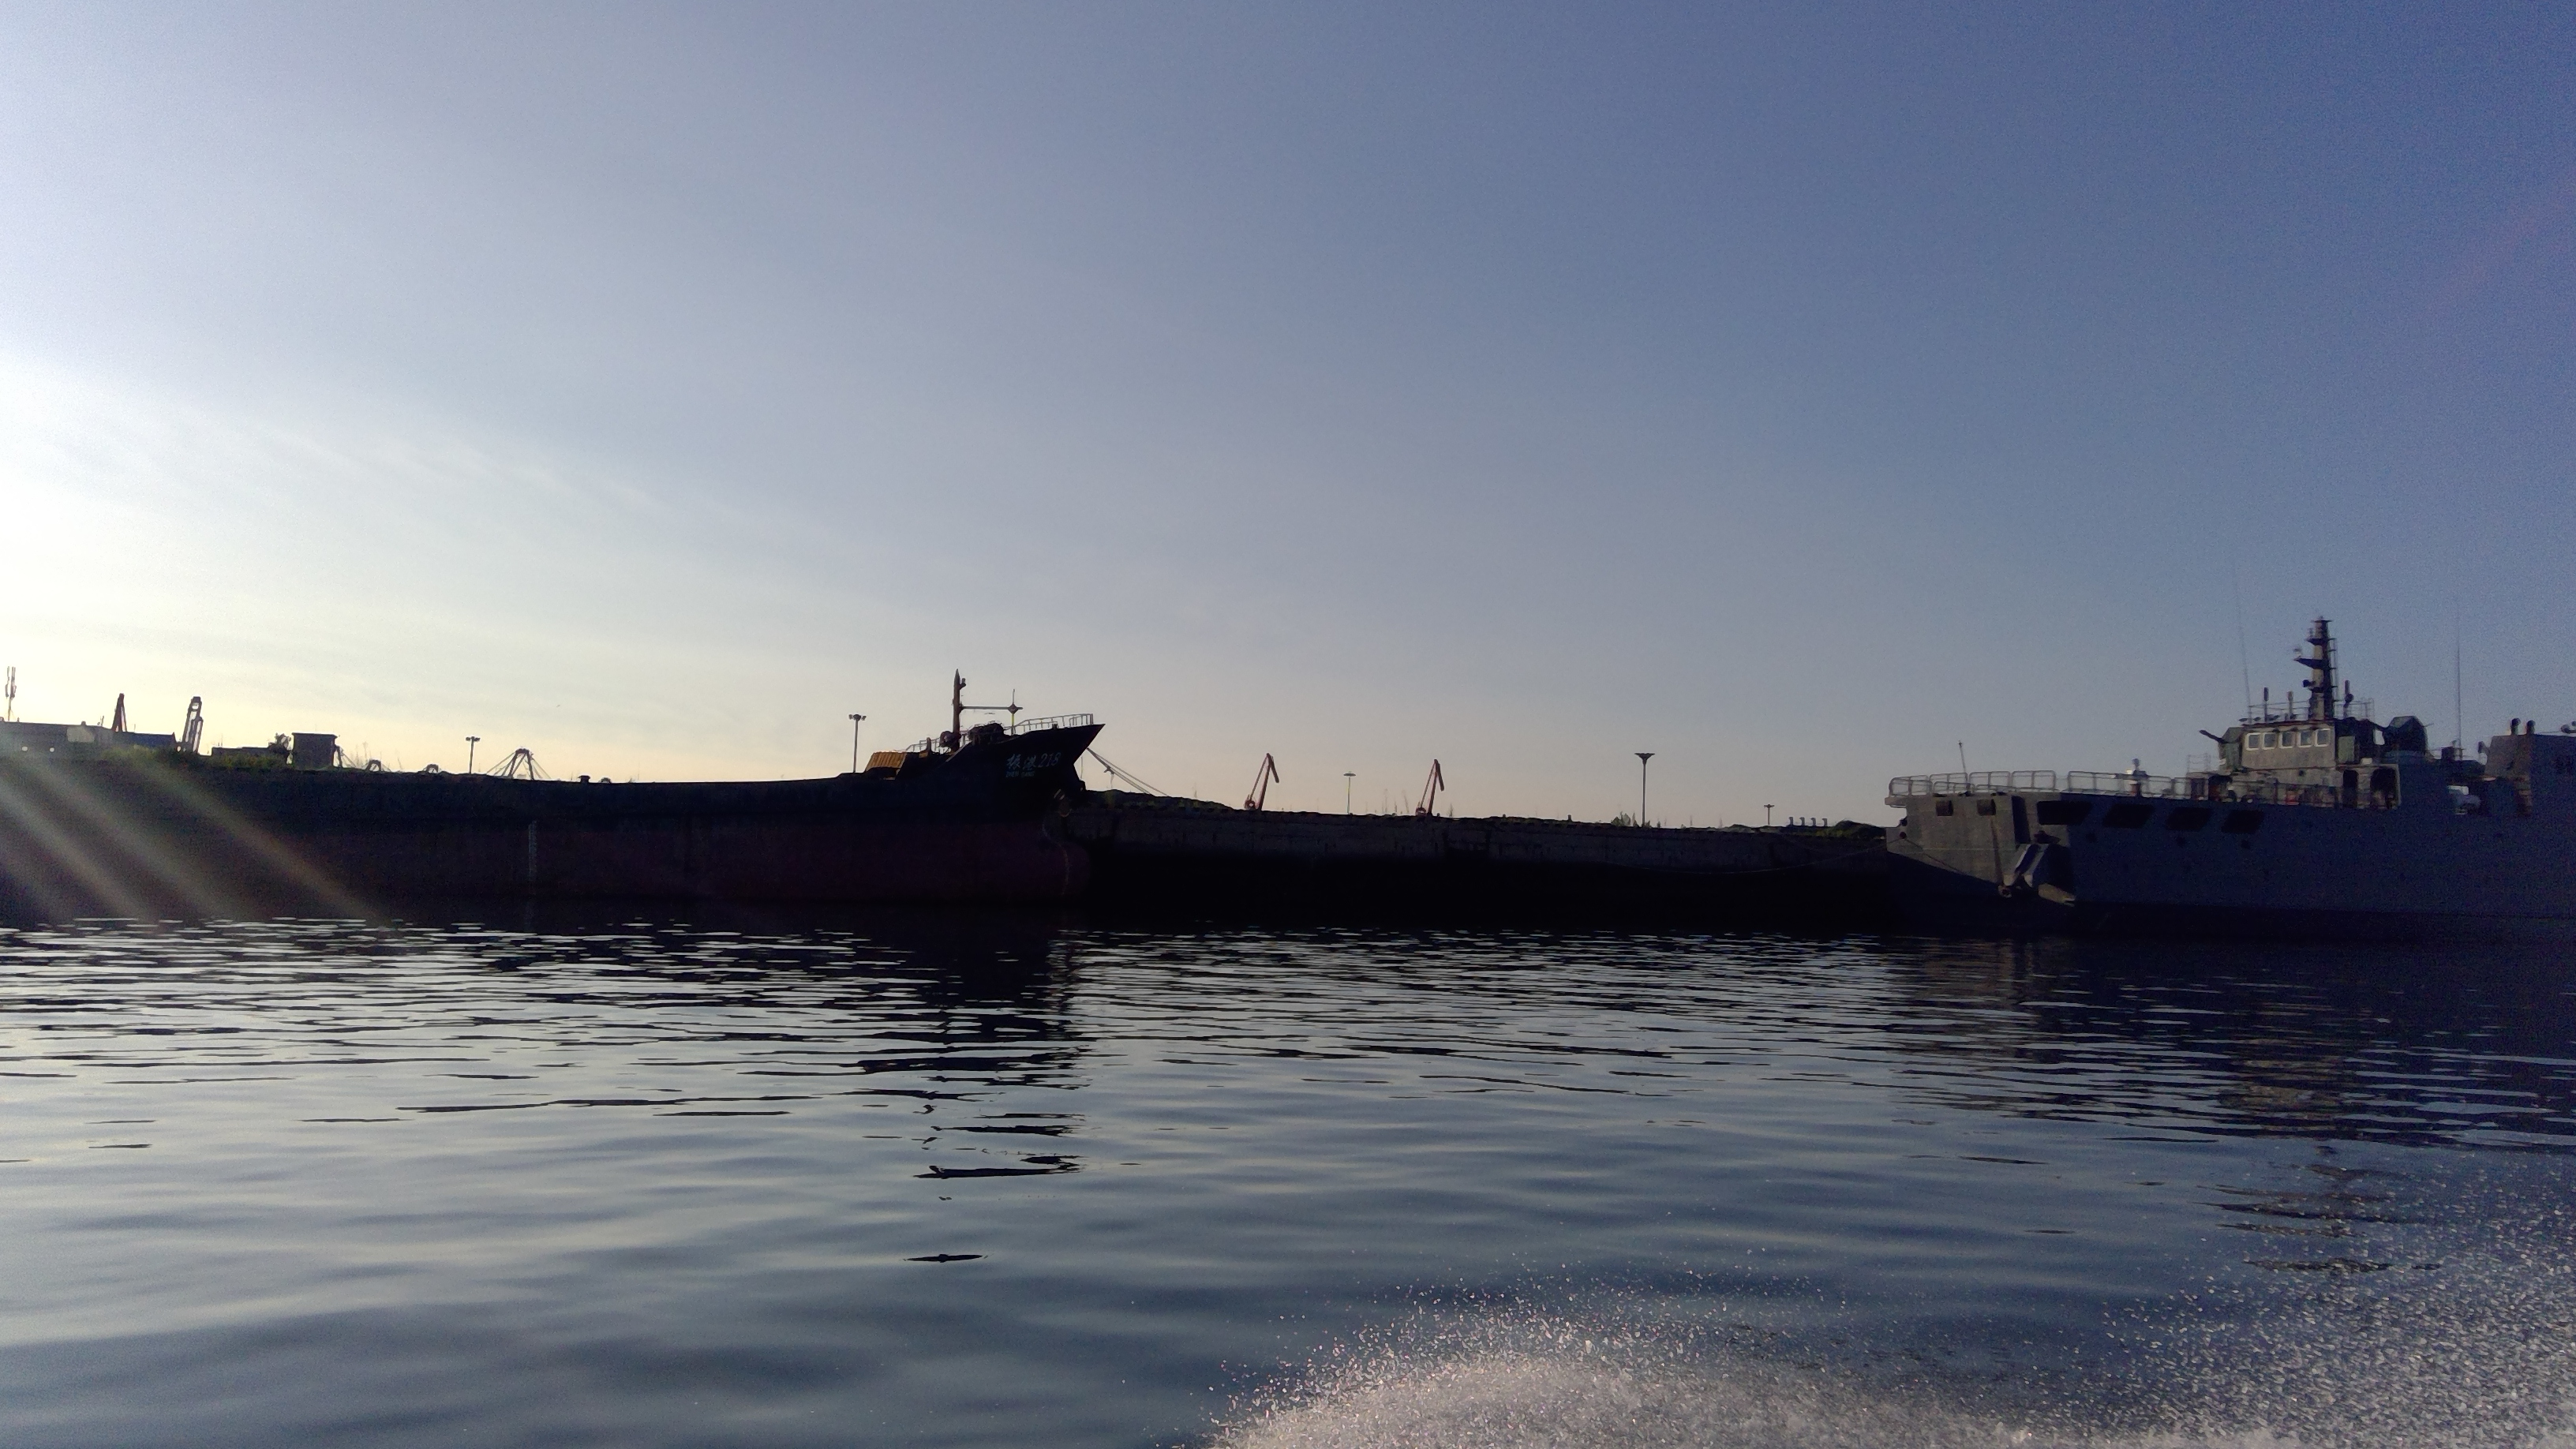ship: (1867, 600, 2576, 977)
